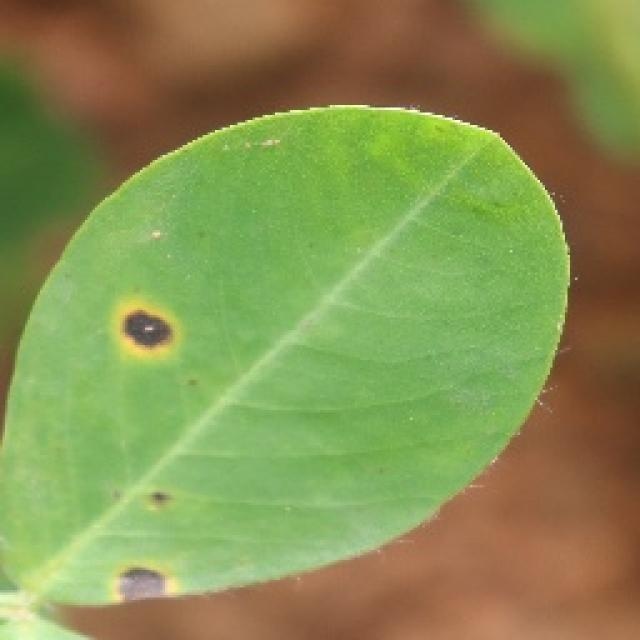Early_leaf_spot: (80, 525, 190, 611), (101, 289, 182, 403), (102, 452, 198, 514)
